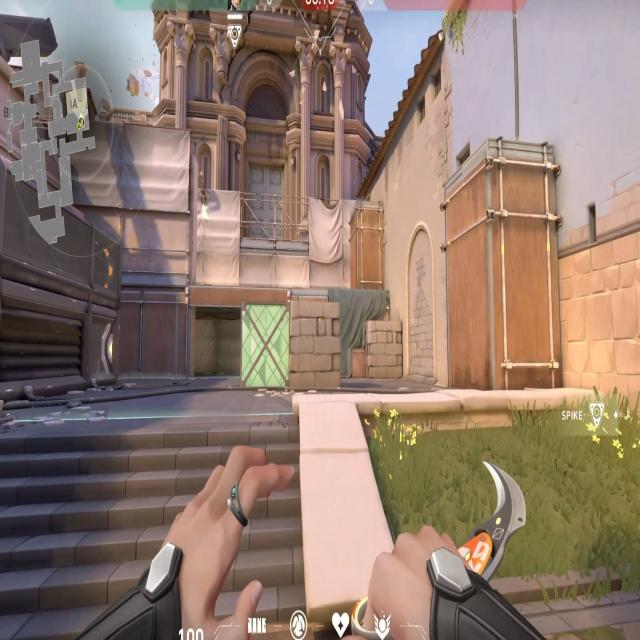A_Heaven_Box: (348, 196, 391, 293)
A_Heaven_Wall: (62, 124, 191, 301)
A_Hell: (182, 280, 296, 394)
A_Site_Box: (237, 293, 345, 396)
